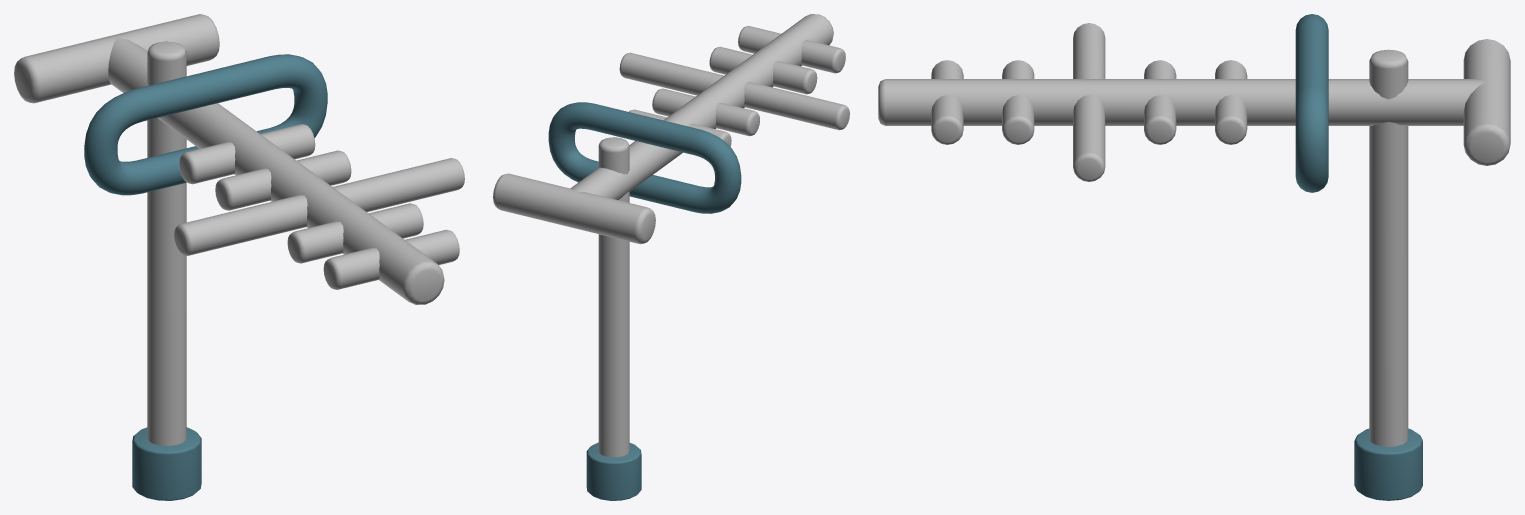
The model's file is City_13_Antenna_2.glb.
3 renders of one model, left to right at view 1: azimuth 30°, elevation 25°; view 2: azimuth 150°, elevation 25°; view 3: azimuth 270°, elevation 25°, orthographic. The views are drawn at different scales.
Parts seen in each view (by area): view 1: City_13_Antenna_2; view 2: City_13_Antenna_2; view 3: City_13_Antenna_2.
Boxes of the visible parts, x1,y1,x2,y2 form: City_13_Antenna_2: (14, 14, 464, 500); City_13_Antenna_2: (493, 14, 849, 500); City_13_Antenna_2: (878, 14, 1510, 500).
Size of the model in its own units: 1.3 by 1.98 by 2.61.
1 material, 1 textured.
